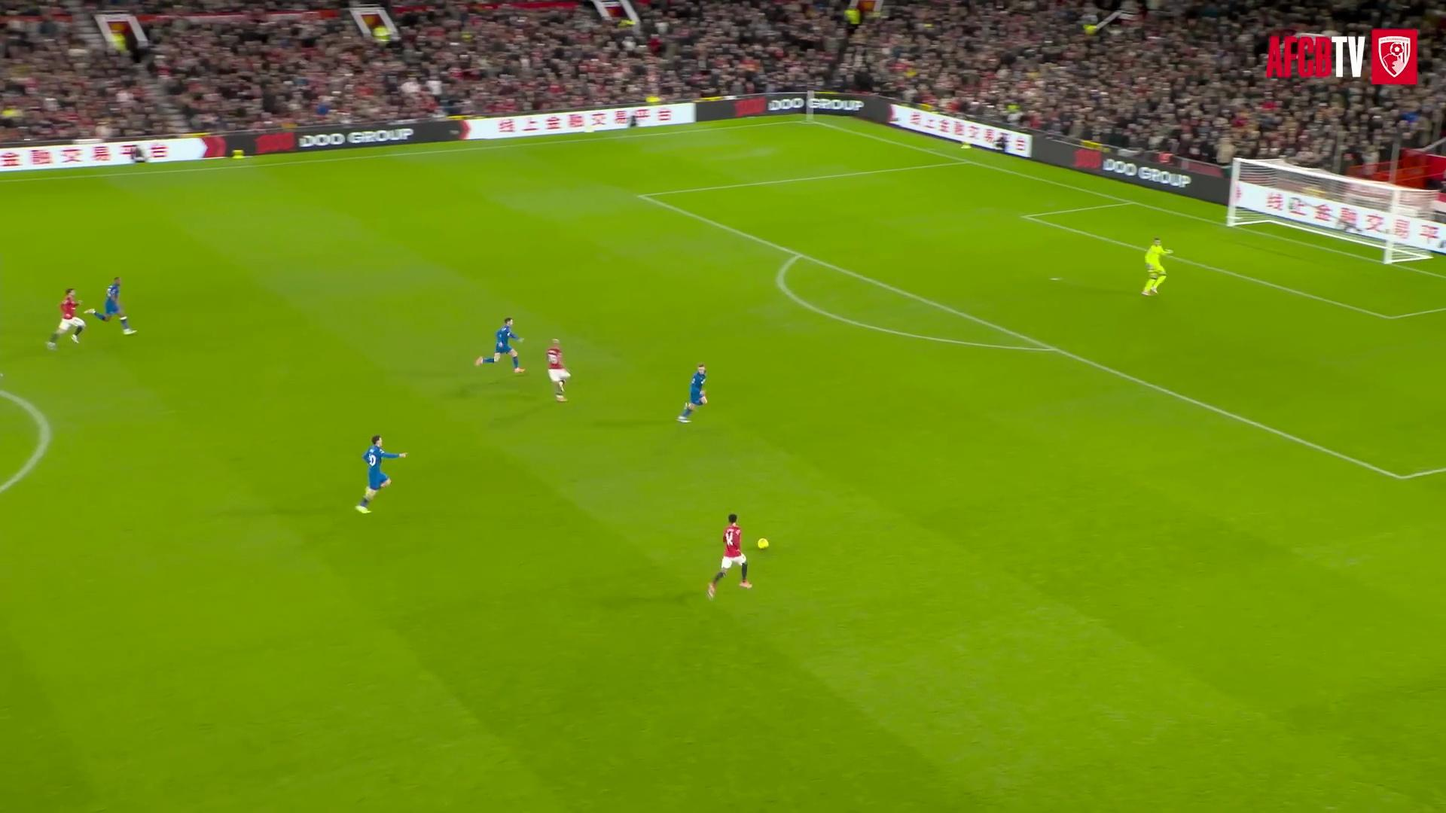football: (758, 538, 768, 548)
player: (355, 436, 406, 513), (707, 514, 752, 598), (84, 276, 136, 334), (475, 318, 524, 373), (47, 288, 85, 349), (1142, 238, 1172, 295), (677, 364, 706, 422), (546, 339, 569, 401)
